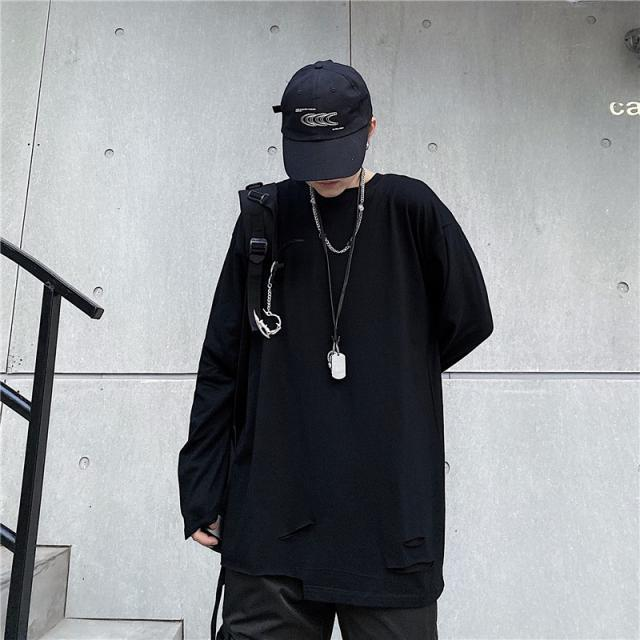Shirt: (174, 163, 496, 611)
